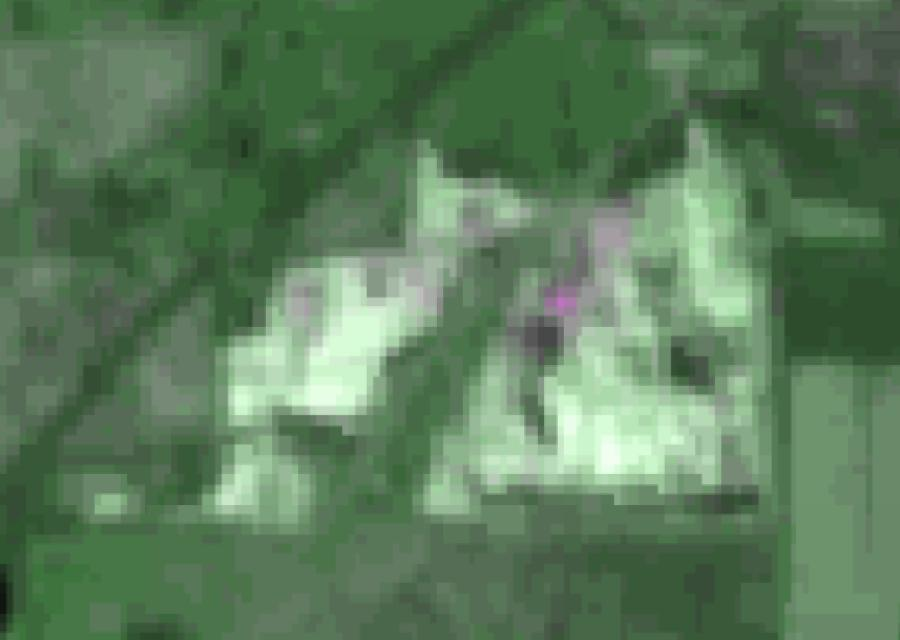Potential Lime Manufacturing Facility: (547, 290, 572, 313)
